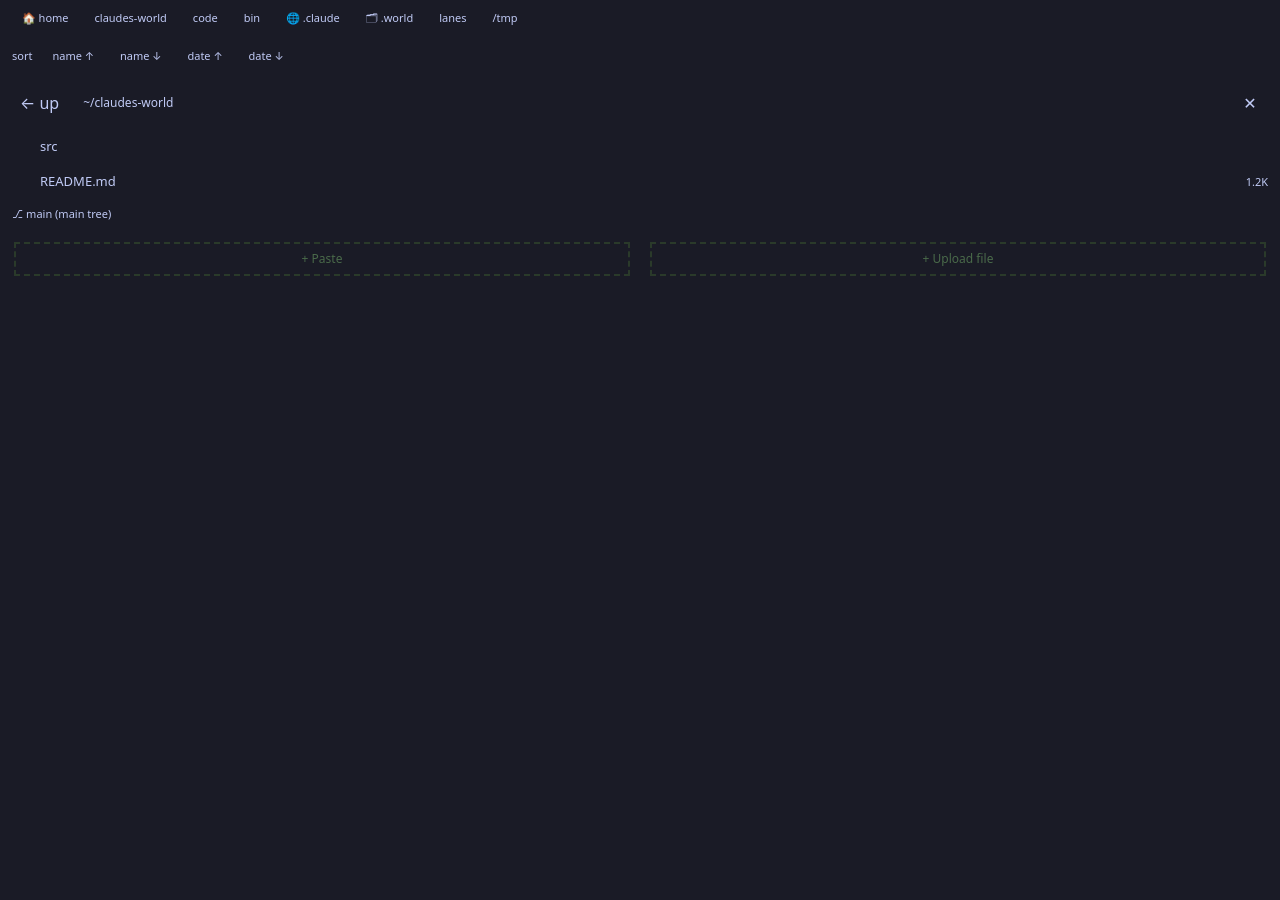
Test: FileViewer download (WORLD-375) › surfaces an error and never downloads when the ticket is refused
What coordinates should you click on to do the following:
click the text "README.md"
I would click on:
 (78, 181)
Its box is [40,172,116,190].
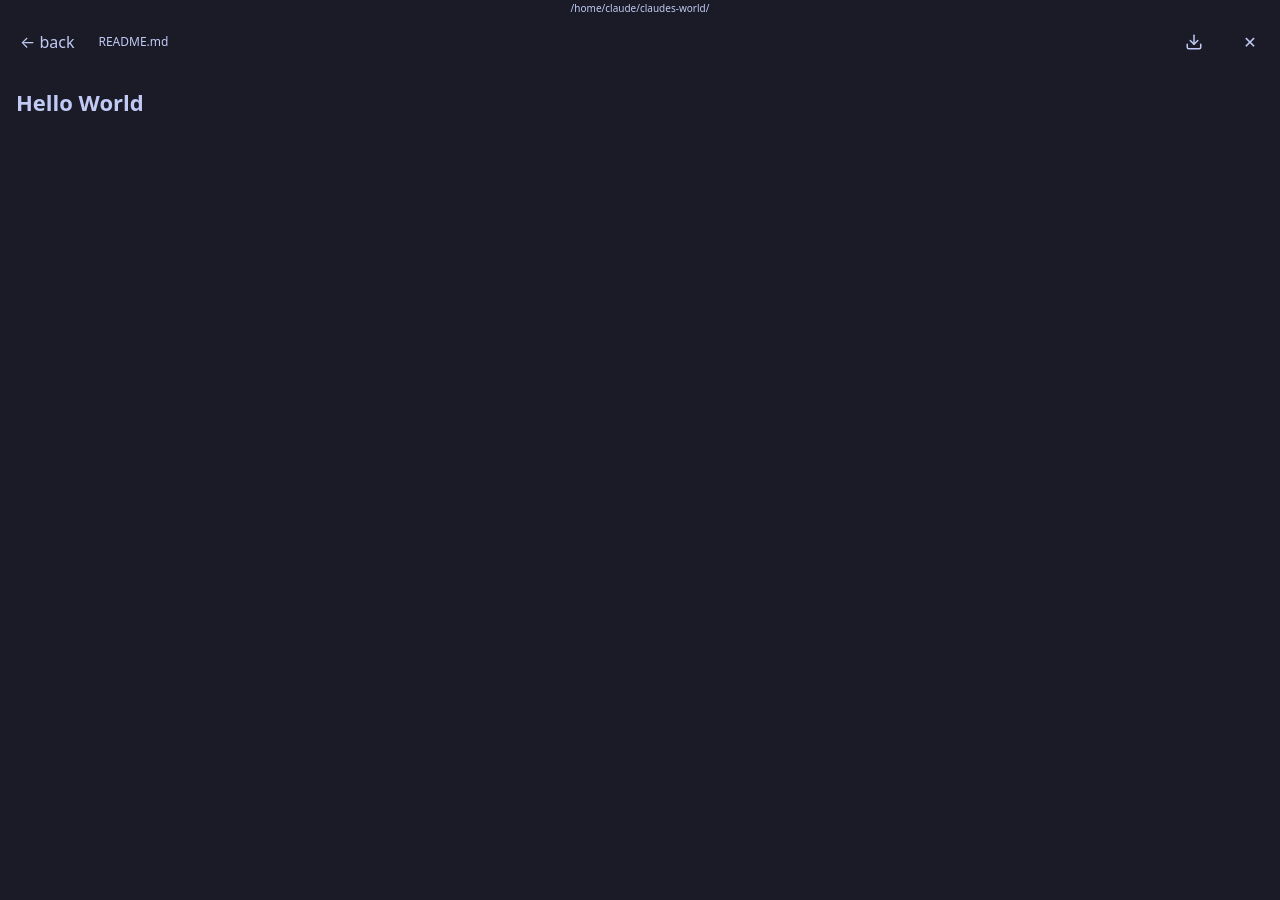
expect the button named "Download file" is shown: met
What coordinates should you click on to do the following:
click the button named "Download file"
I would click on:
 (1194, 42)
Its box is [1172,20,1216,64].
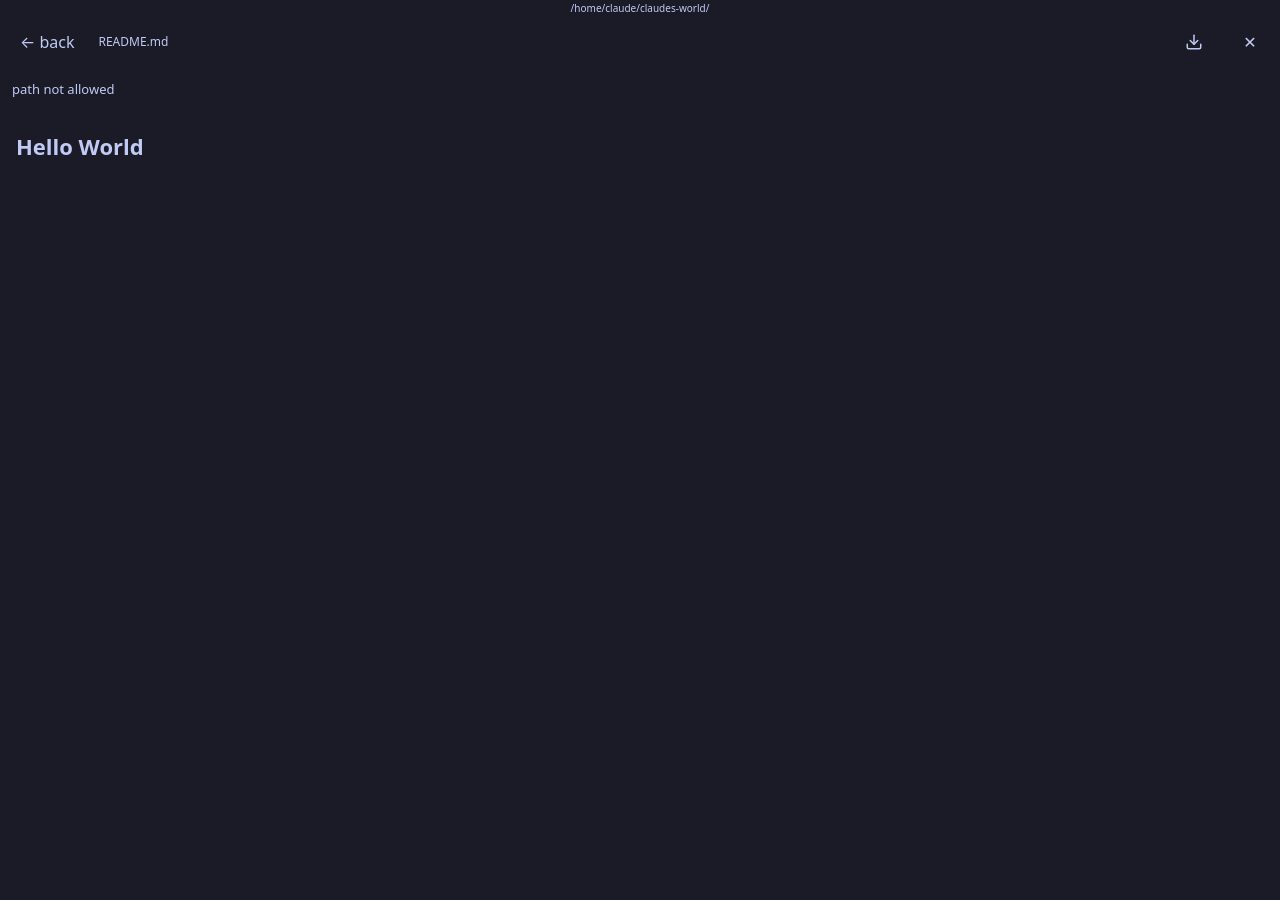
expect the text "path not allowed" is shown: met, box [12,80,114,98]
